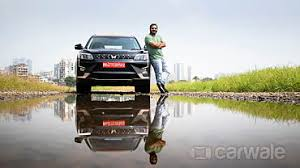XUV 400: (74, 33, 151, 93)
